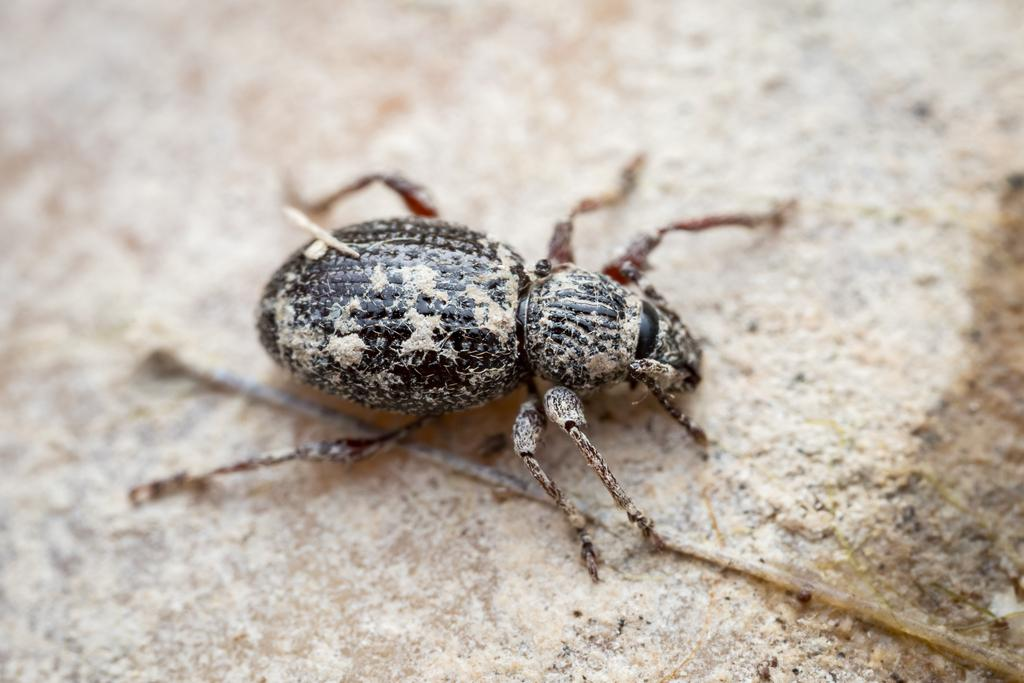weevils: (86, 119, 863, 596)
